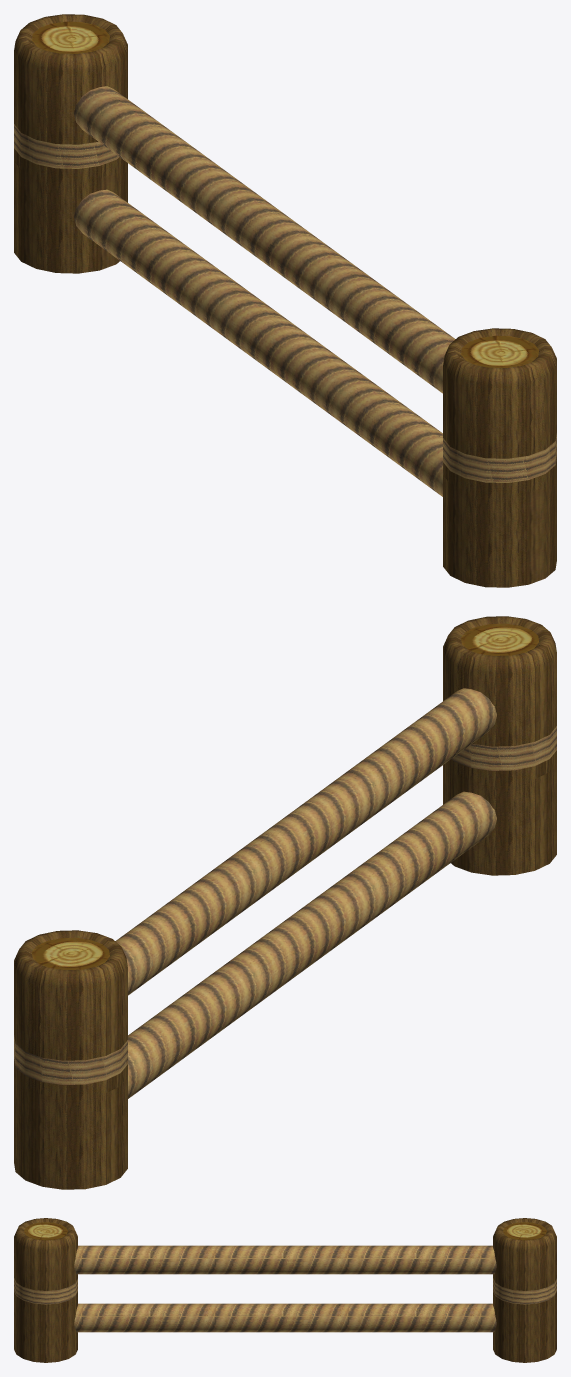
File: YoshiHighlandsFence.fbx
3 views of the same model, one above another, from view 1: azimuth 30°, elevation 25°; view 2: azimuth 150°, elevation 25°; view 3: azimuth 270°, elevation 25° (orthographic). The views are drawn at different scales.
Visible parts, largest first — view 1: Circle.002; view 2: Circle.002; view 3: Circle.002.
Boxes of the visible parts, x1,y1,x2,y2 form: Circle.002: (14, 14, 556, 587); Circle.002: (14, 616, 556, 1189); Circle.002: (14, 1218, 556, 1362).
Bounding box in the file's own units: 2529 × 5217 × 21437.
